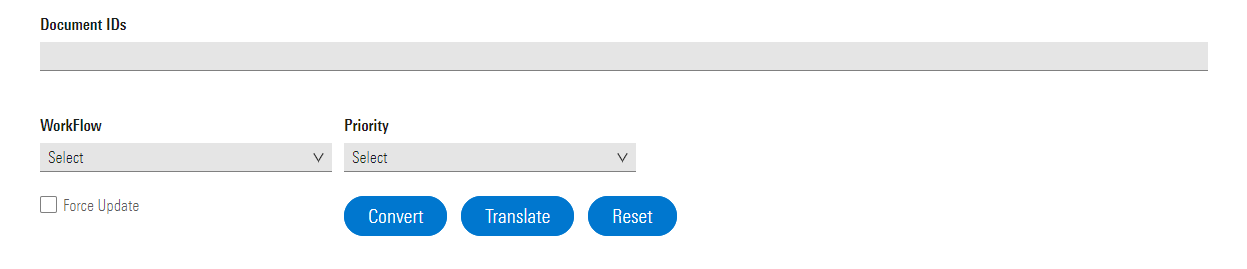checkbox: (39, 193, 58, 214)
div_rect: (39, 40, 1208, 73), (342, 140, 638, 173), (39, 140, 327, 173)
div_round: (459, 195, 574, 237), (342, 195, 446, 237), (587, 195, 677, 237)
down_arrow: (311, 151, 325, 163), (615, 151, 629, 162)
text: (39, 16, 127, 31), (63, 197, 139, 213), (483, 207, 550, 224), (39, 117, 102, 132), (368, 209, 425, 225), (344, 118, 388, 133), (613, 209, 654, 225), (47, 149, 85, 165), (351, 149, 389, 165)
